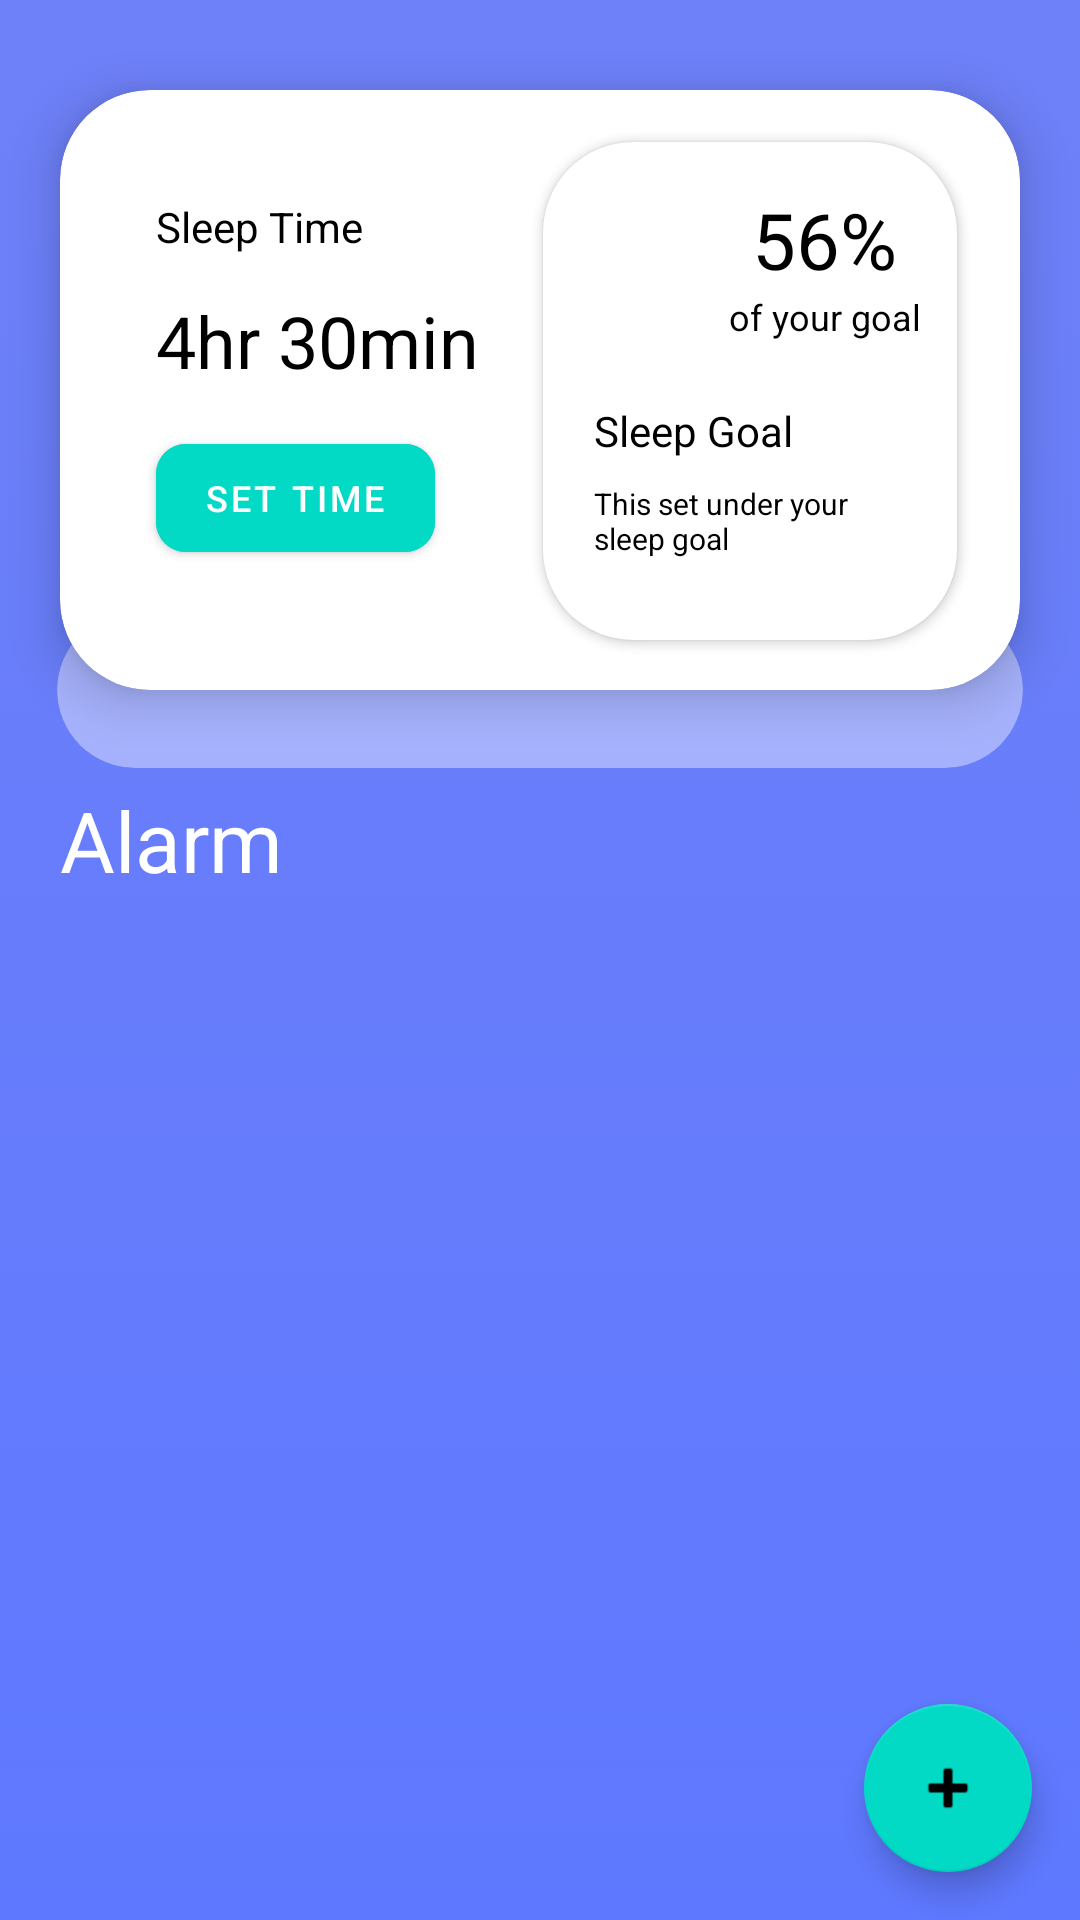

Named icons in this screenshot (1080 × 1920) and their centers, [x,y]:
Add New Alarm: [948,1788]
